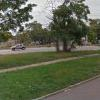Tree: (49, 3, 92, 52)
